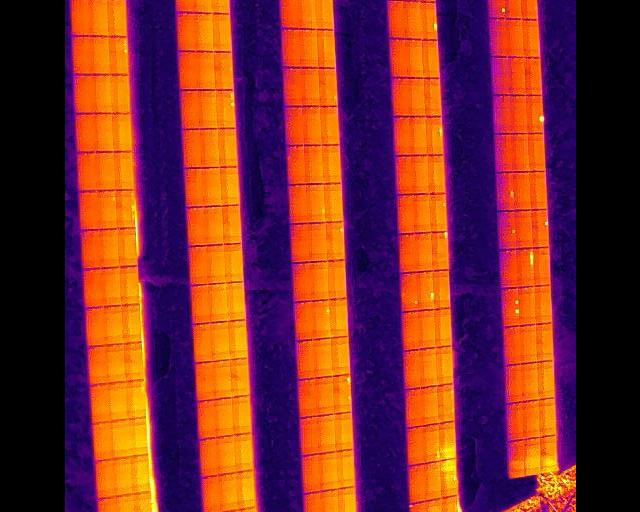Cell: (325, 223, 344, 261), (419, 1, 437, 40), (97, 190, 115, 229), (525, 96, 543, 133), (495, 173, 513, 210), (311, 301, 329, 338), (426, 117, 443, 155), (429, 195, 446, 232), (498, 212, 515, 249), (531, 210, 548, 247), (416, 273, 433, 309), (431, 231, 447, 269), (487, 0, 505, 19)
Cell-Multi: (109, 36, 129, 75), (215, 90, 235, 128), (333, 376, 351, 413), (501, 289, 519, 325)
No-Anomaly: (175, 12, 196, 51), (216, 128, 237, 167), (94, 460, 114, 500), (72, 75, 93, 113), (287, 185, 308, 223), (219, 167, 240, 205), (109, 74, 129, 113), (113, 151, 133, 190), (180, 90, 200, 129), (177, 52, 197, 91), (185, 207, 205, 246), (76, 153, 96, 192), (80, 230, 100, 269), (75, 113, 95, 152), (72, 36, 92, 75), (319, 106, 339, 145), (289, 224, 309, 263), (187, 246, 207, 284), (183, 169, 203, 207), (77, 191, 97, 229), (301, 454, 321, 492), (201, 168, 221, 206), (70, 0, 91, 36), (121, 304, 140, 343), (388, 39, 407, 78), (391, 77, 410, 116), (195, 361, 214, 400), (103, 306, 122, 345), (109, 382, 128, 421), (302, 106, 321, 145), (285, 145, 304, 184), (282, 68, 301, 107), (229, 359, 248, 398), (128, 456, 148, 493), (190, 286, 210, 323), (92, 423, 112, 460), (224, 283, 244, 320), (226, 321, 246, 358), (215, 438, 236, 473), (111, 113, 130, 151), (111, 421, 130, 459), (387, 0, 406, 38), (323, 184, 342, 222), (330, 337, 349, 375), (326, 261, 345, 299), (192, 324, 211, 362), (95, 152, 114, 190), (82, 269, 101, 307), (200, 130, 219, 168), (315, 30, 334, 68), (309, 262, 328, 300), (303, 146, 322, 184), (284, 107, 303, 145), (207, 284, 226, 322), (214, 52, 233, 90), (212, 14, 231, 52), (223, 244, 242, 282), (90, 383, 108, 423), (231, 398, 251, 434), (499, 250, 518, 287), (318, 69, 337, 106), (210, 323, 229, 360), (213, 399, 232, 436), (405, 39, 423, 78), (321, 145, 339, 184), (182, 129, 200, 168), (493, 95, 511, 134), (490, 56, 508, 95), (306, 184, 324, 223), (312, 338, 330, 377), (114, 190, 132, 228), (521, 19, 539, 57), (117, 228, 135, 266), (128, 419, 147, 455), (119, 267, 137, 305), (123, 344, 142, 380), (394, 156, 412, 194), (336, 450, 354, 488), (197, 52, 215, 90), (528, 171, 546, 209), (99, 230, 117, 268), (101, 268, 119, 306), (107, 0, 126, 36), (94, 114, 112, 152), (93, 75, 111, 113), (91, 36, 109, 74), (507, 57, 525, 95), (504, 365, 523, 401), (505, 403, 523, 441), (504, 19, 522, 57), (318, 452, 336, 490), (299, 419, 318, 455), (297, 379, 315, 417), (299, 30, 317, 68), (223, 206, 241, 244), (234, 435, 253, 471), (204, 207, 222, 245), (434, 348, 452, 385), (412, 195, 430, 232), (329, 300, 347, 337), (196, 14, 214, 51), (197, 401, 215, 438), (212, 362, 230, 399), (106, 346, 125, 381), (199, 440, 218, 475), (218, 475, 237, 510), (404, 1, 421, 40), (393, 117, 410, 156), (86, 307, 103, 346), (309, 223, 326, 262), (292, 263, 309, 302), (293, 301, 310, 340), (295, 340, 312, 379), (437, 423, 455, 459), (398, 235, 416, 271), (405, 390, 423, 426), (88, 347, 106, 383), (90, 0, 108, 36), (316, 378, 334, 414), (236, 472, 254, 508), (527, 133, 544, 171), (524, 57, 541, 95), (127, 381, 144, 419), (412, 156, 429, 194), (423, 79, 440, 117), (428, 155, 445, 193), (199, 90, 216, 128), (334, 412, 351, 450), (513, 172, 530, 210), (494, 134, 511, 172), (489, 19, 506, 57), (302, 68, 319, 106), (282, 29, 299, 67), (533, 247, 550, 285), (207, 245, 224, 283), (407, 467, 425, 502), (402, 352, 420, 387), (506, 442, 524, 477), (114, 459, 131, 496), (409, 118, 426, 155), (421, 41, 438, 78), (397, 196, 414, 233), (522, 401, 539, 438), (511, 134, 528, 171), (317, 416, 334, 453), (202, 479, 221, 512), (432, 272, 449, 308), (440, 460, 457, 496), (400, 274, 417, 310), (519, 326, 536, 362), (518, 288, 535, 324), (514, 211, 531, 247), (503, 328, 520, 364), (537, 362, 554, 398), (535, 325, 552, 361), (433, 310, 450, 345), (436, 386, 453, 421), (414, 235, 431, 270), (406, 429, 423, 464), (402, 313, 419, 348), (521, 364, 538, 399), (538, 400, 555, 435), (278, 0, 298, 29), (423, 465, 440, 499), (422, 427, 439, 461), (418, 350, 434, 386), (534, 286, 550, 322), (511, 96, 526, 134), (523, 439, 539, 474), (418, 312, 434, 347), (409, 79, 424, 116), (540, 437, 556, 471), (315, 0, 333, 30), (298, 0, 315, 29), (423, 389, 437, 424), (338, 490, 356, 512), (303, 494, 324, 512), (321, 491, 339, 512), (132, 494, 151, 512), (520, 0, 536, 20), (114, 496, 133, 512), (505, 0, 521, 18), (174, 0, 195, 13), (210, 0, 229, 14), (97, 499, 117, 512), (195, 0, 211, 14), (442, 498, 456, 512), (425, 501, 441, 512), (409, 505, 427, 512)
Unclassified: (516, 249, 534, 286)
